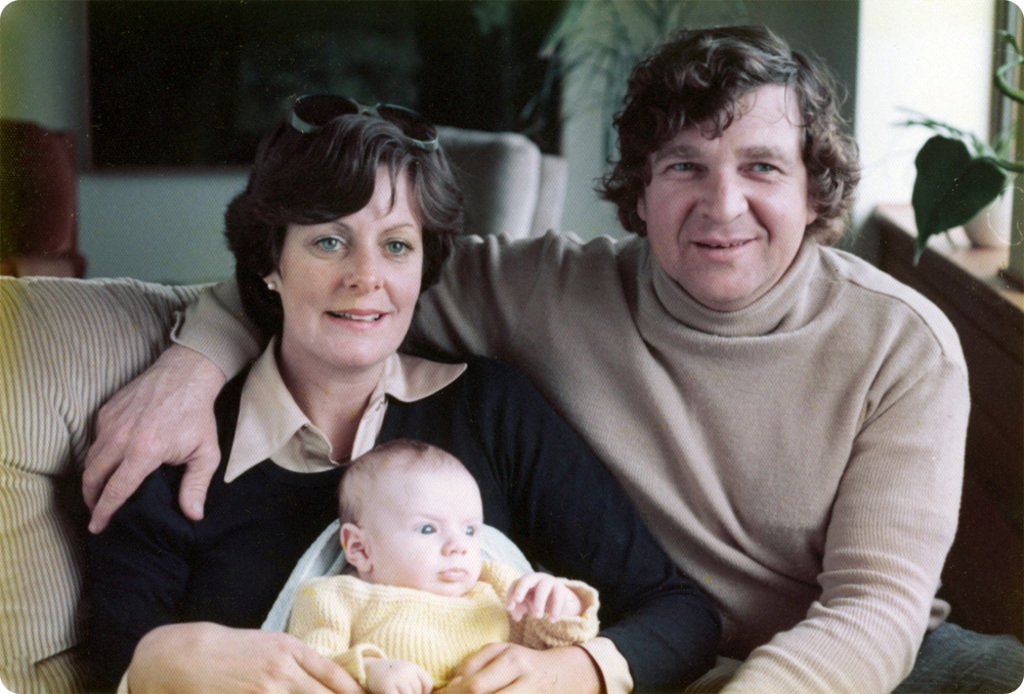face: (376, 466, 486, 599)
